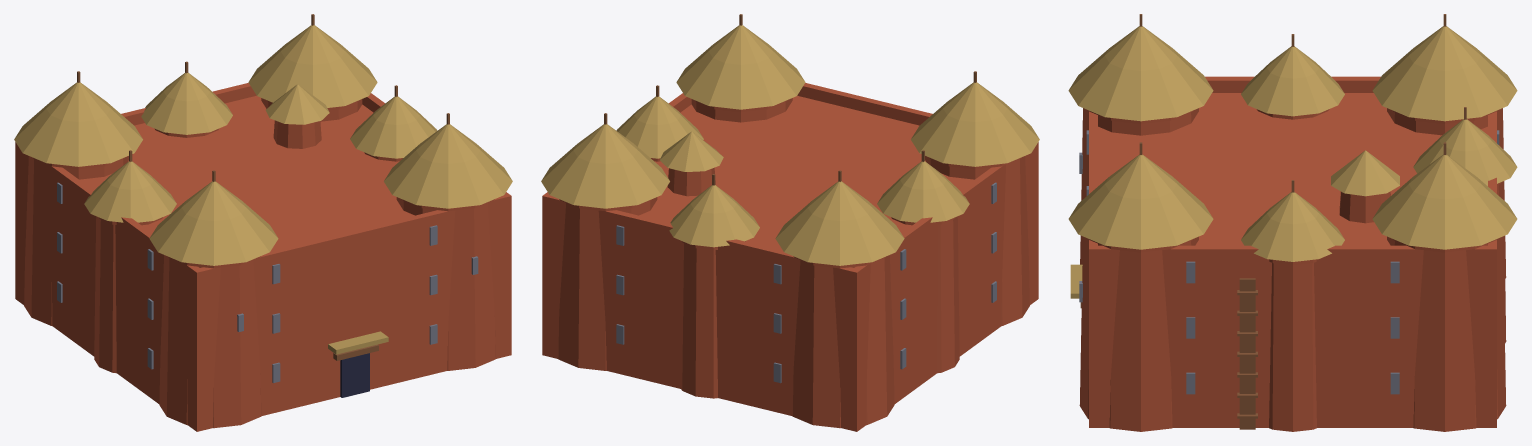
Rendered from house-2x2-3f-tata-a.glb.
The picture shows the model from 3 angles, left to right: view 1: azimuth 30°, elevation 25°; view 2: azimuth 150°, elevation 25°; view 3: azimuth 270°, elevation 25°; orthographic projection. The views are drawn at different scales.
Visible parts, largest first — view 1: house-2x2-3f-tata-a; view 2: house-2x2-3f-tata-a; view 3: house-2x2-3f-tata-a.
Part boxes in pixels (box(x1,y1,x2,y2)): house-2x2-3f-tata-a: box(14, 14, 512, 431); house-2x2-3f-tata-a: box(541, 14, 1039, 431); house-2x2-3f-tata-a: box(1068, 14, 1517, 431).
Size of the model in its own units: 1.98 by 1.28 by 1.98.
Materials: 1 (1 with a texture image).
